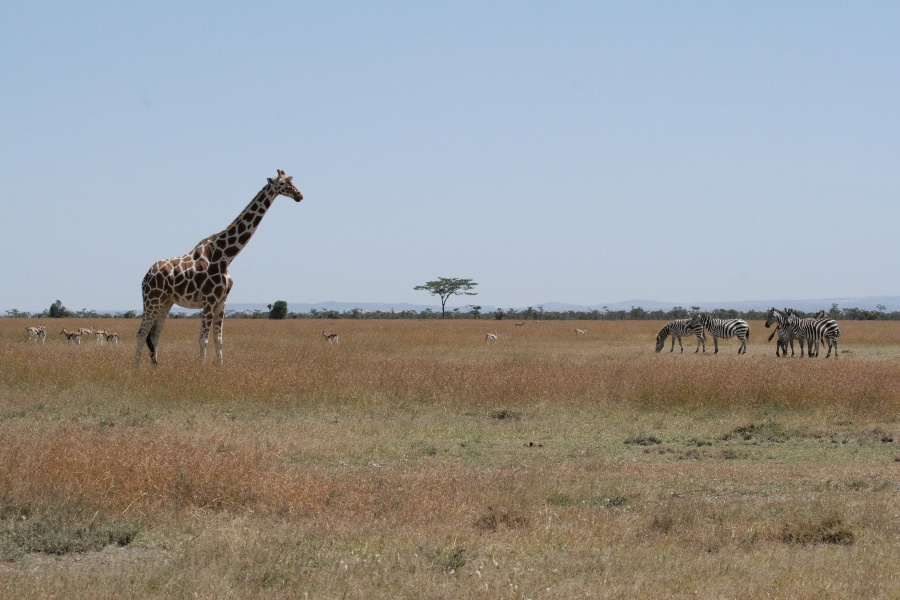giraffe: (123, 163, 308, 376)
